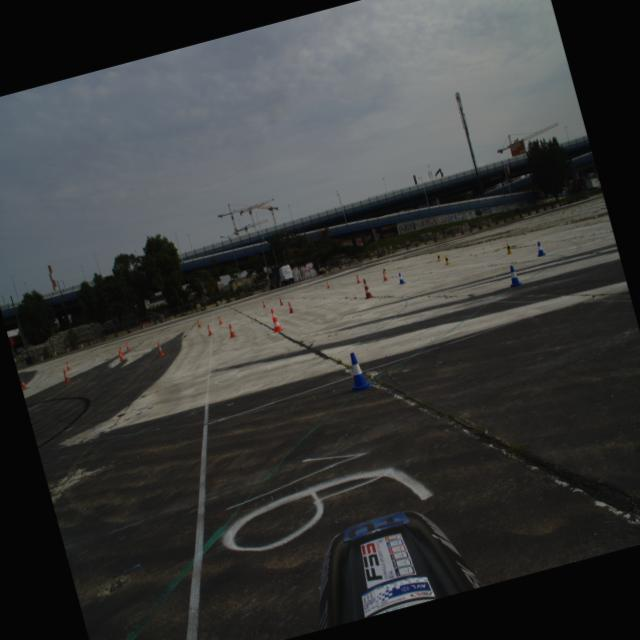blue_cone: (341, 349, 373, 393), (504, 264, 522, 288), (534, 240, 546, 256), (396, 272, 404, 284)
large_orange_cone: (268, 306, 284, 332), (361, 278, 374, 298)
orange_cone: (227, 322, 236, 338), (155, 342, 165, 356), (61, 368, 70, 382), (116, 349, 125, 361), (286, 301, 294, 313), (205, 324, 213, 336), (19, 377, 27, 389), (380, 270, 388, 280), (64, 360, 71, 370), (354, 274, 360, 283), (278, 296, 284, 305), (217, 315, 223, 324), (124, 341, 130, 350), (119, 346, 124, 356), (325, 280, 330, 288), (261, 300, 266, 308), (196, 319, 201, 327)
yellow_cone: (503, 242, 512, 254), (443, 254, 450, 264), (436, 252, 442, 261), (383, 266, 387, 274)
